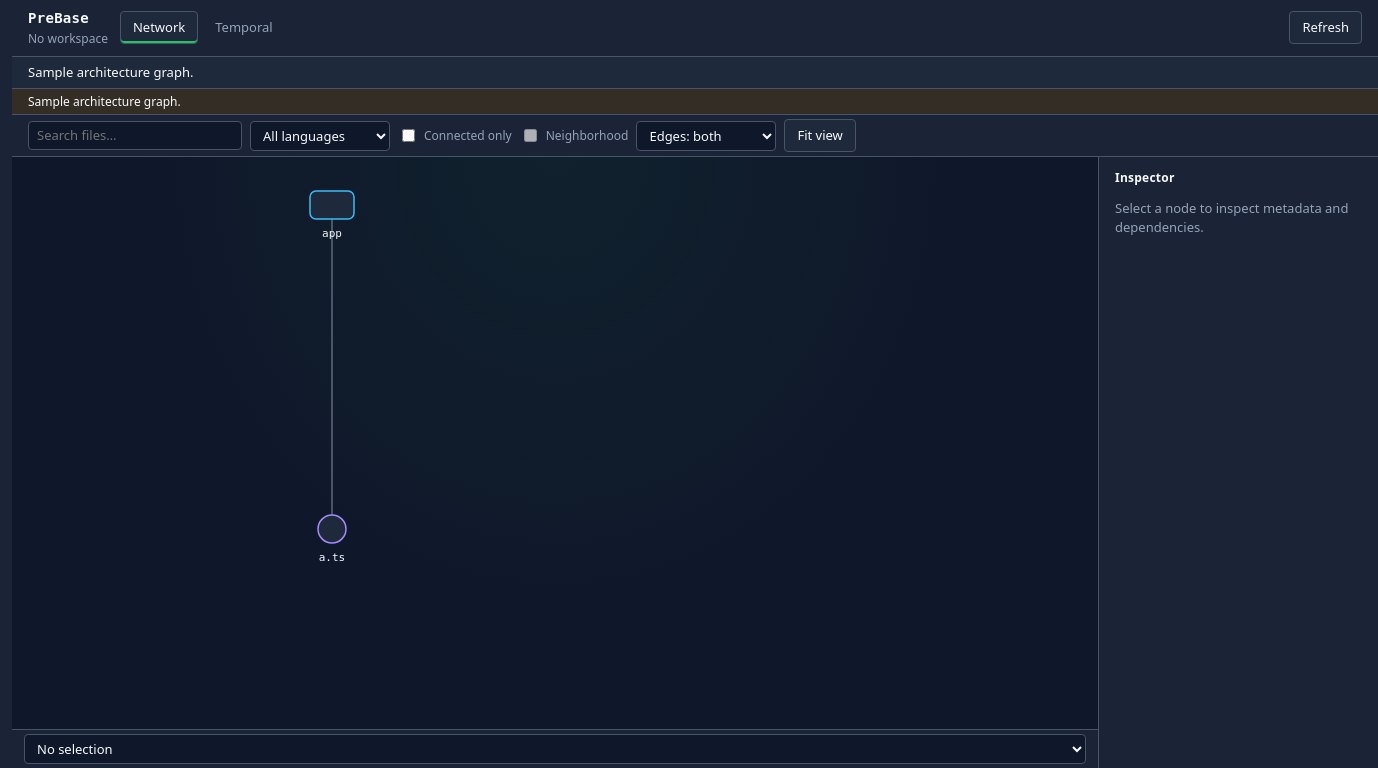
Test case: App › renders graph, selection, and inspector metadata
Expected: the 2nd text "Sample architecture graph." is shown, [12, 89, 1377, 115]
Expected: the picture named "Network graph with 2 nodes" is shown, [12, 157, 1098, 729]
Select "a.ts (file, src/a.ts)" in the dropdown named "Graph nodes" at coordinates (555, 749), box [24, 734, 1086, 764]
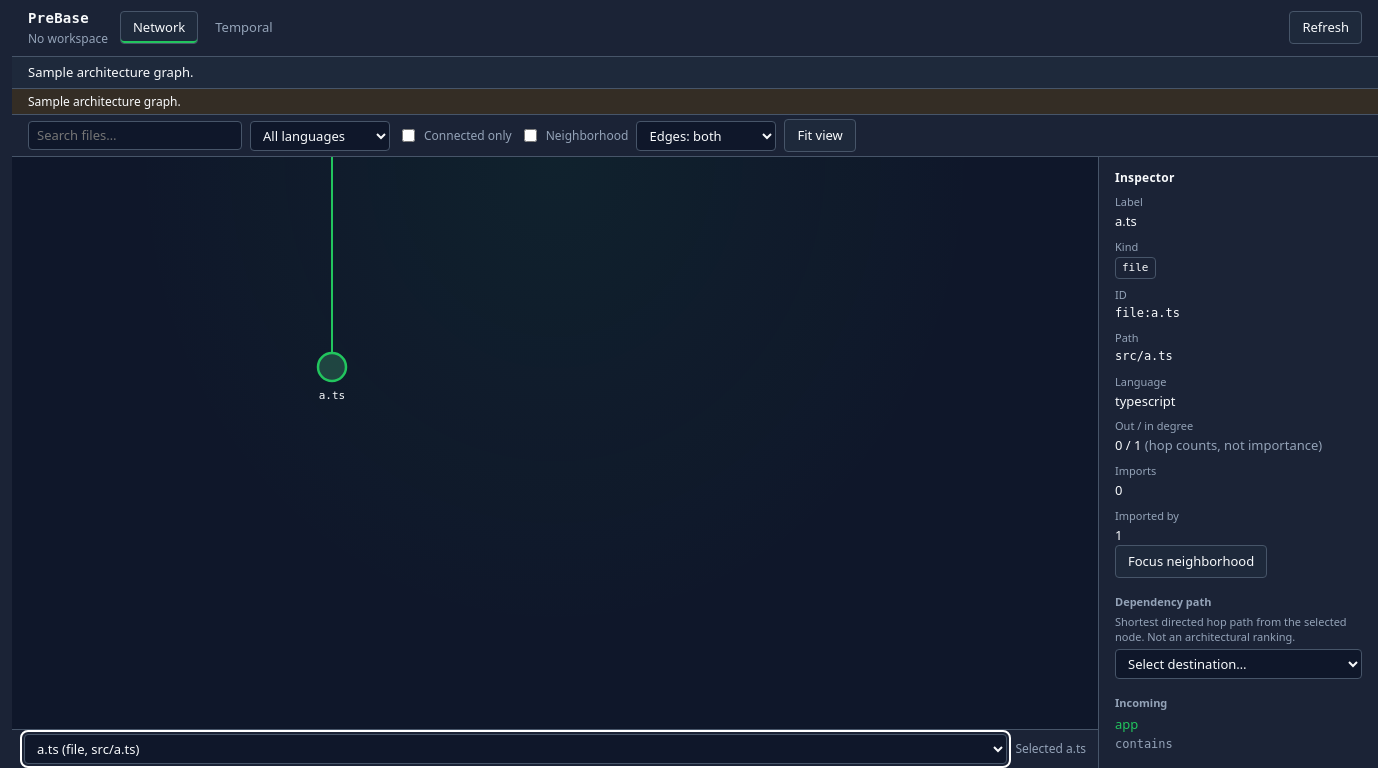
Expected: the text "a.ts" is shown, [1115, 212, 1137, 230]
Expected: the text "file" is shown, [1115, 257, 1156, 279]
